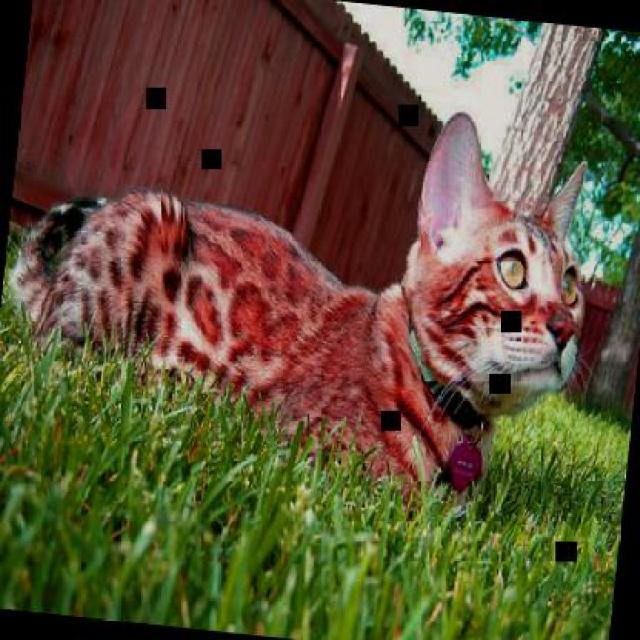cat: (0, 65, 603, 528)
